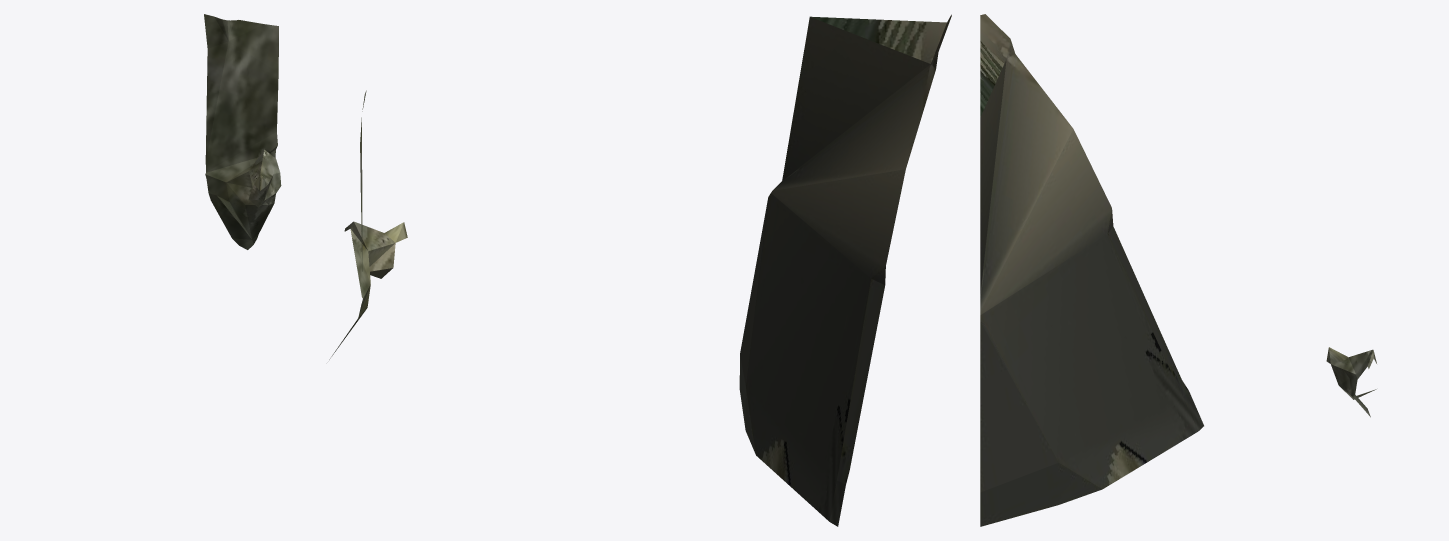
3 views of the same model, side by side, from view 1: azimuth 30°, elevation 25°; view 2: azimuth 150°, elevation 25°; view 3: azimuth 270°, elevation 25° (orthographic). The views are drawn at different scales.
Bounding box in the file's own units: 2.95 × 2.95 × 2.95.
2 materials, 2 textured.
